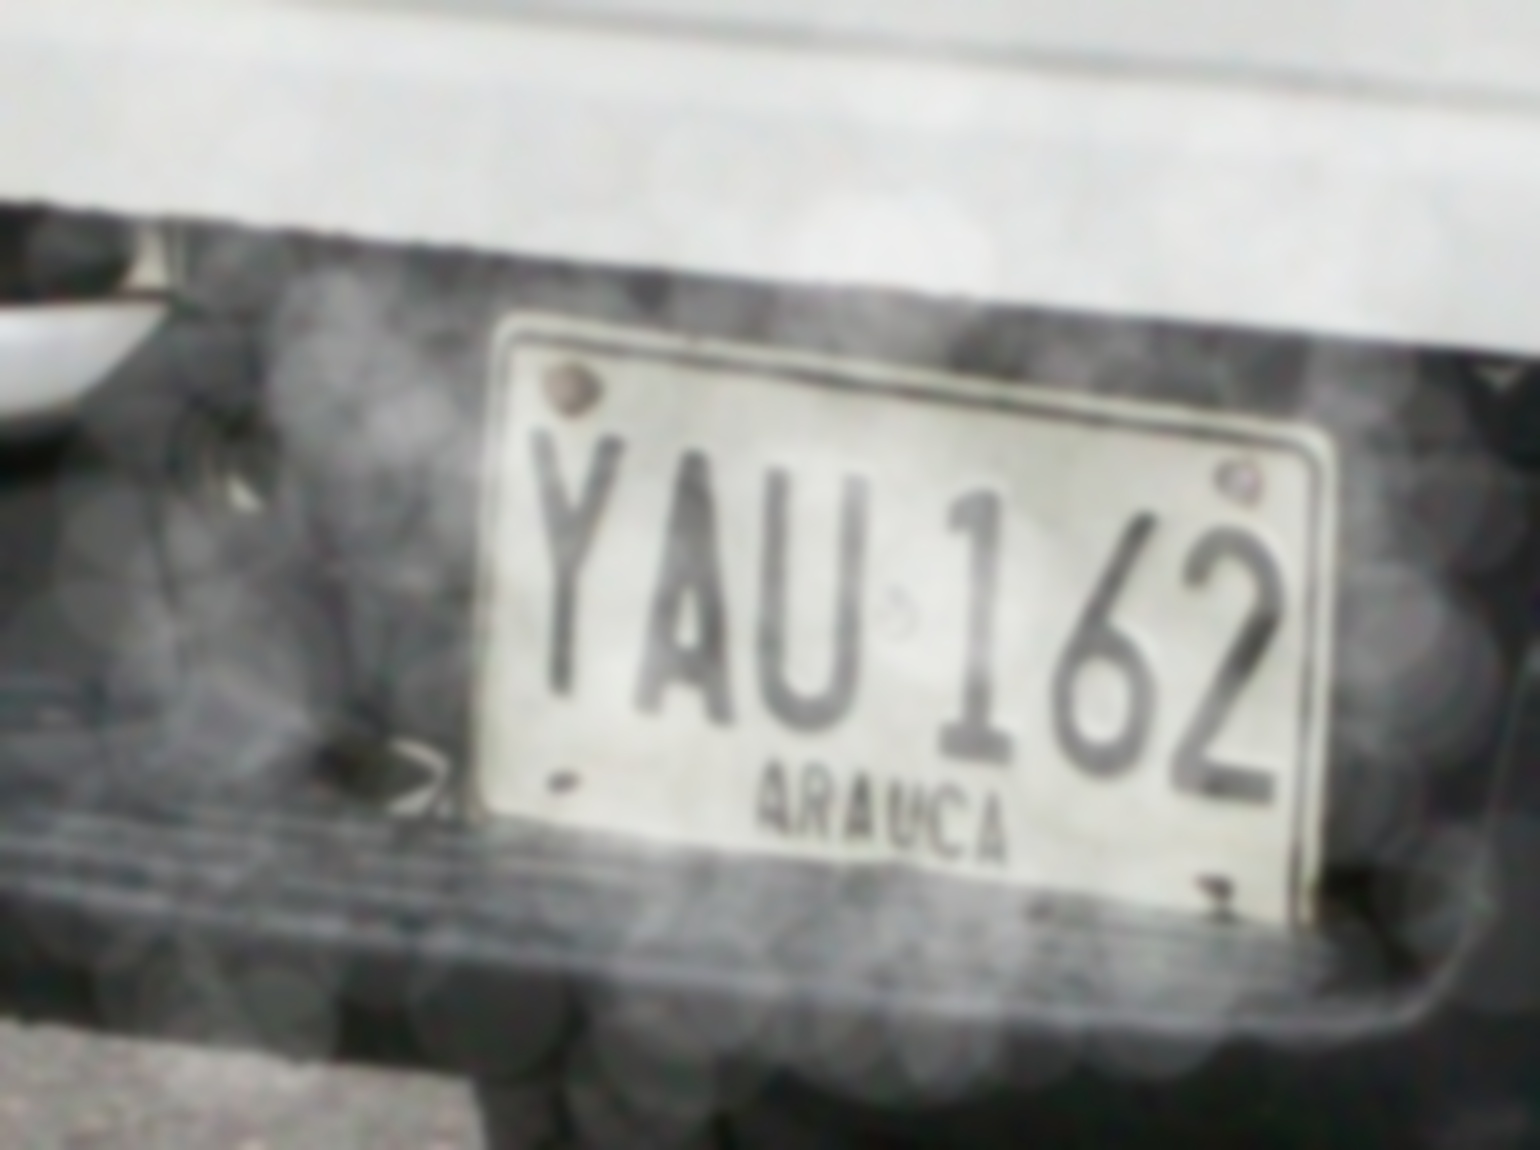placas: (457, 276, 1342, 940)
